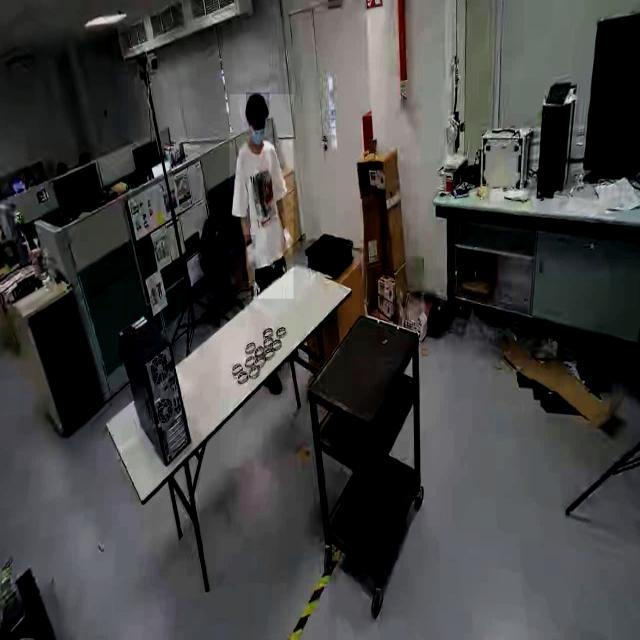face_mask: (249, 119, 265, 147)
hand_glove: (242, 234, 256, 282), (280, 224, 292, 252)
head_nohelmet: (246, 92, 270, 116)
person: (229, 94, 293, 300)
